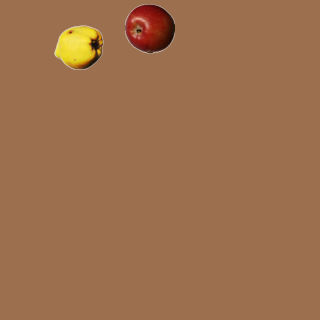Apple Braeburn: (124, 3, 174, 53)
Quince: (53, 22, 103, 72)
